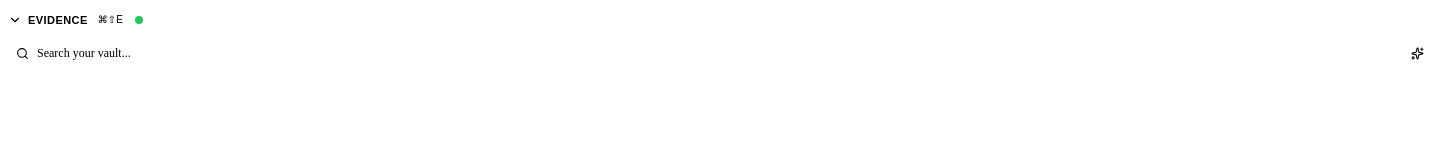
EvidenceRail › shows "no results" message when search returns empty
This screenshot has width=1440, height=160.
In the field with class "search-input": (712, 54) [35,45,1389,62], type "nothing found"
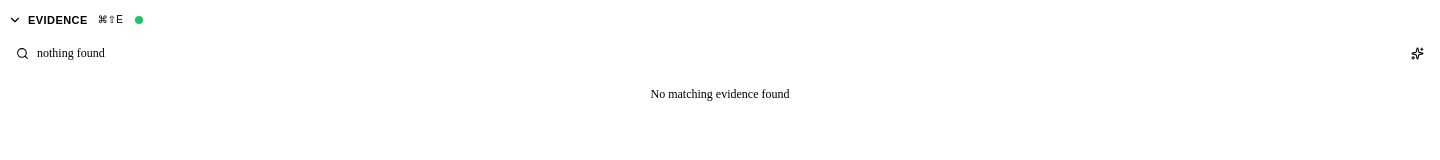
Check: the text with class "no-results" shows "No matching evidence", box [650,87,790,101]
